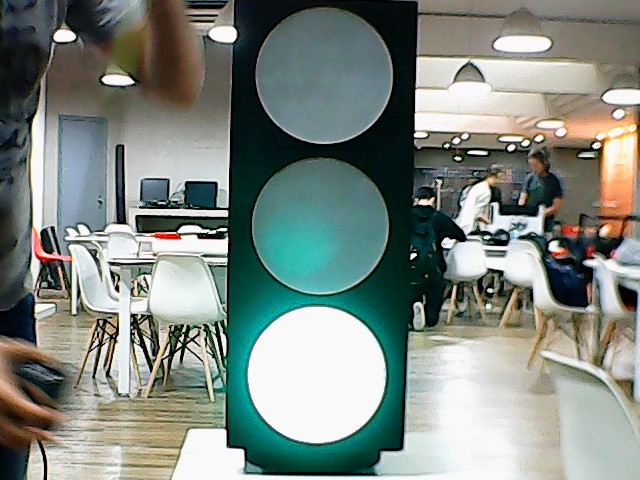verde: (222, 1, 414, 450)
